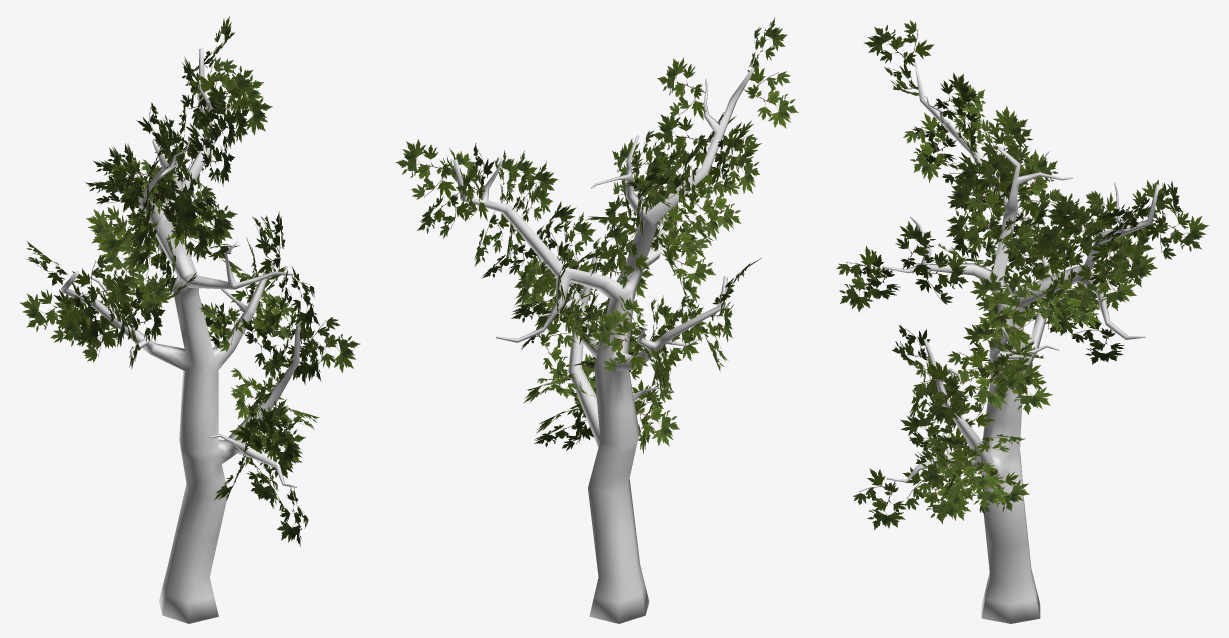
Rendered from Tree_1 (3).fbx.
3 renders of one model, left to right at view 1: azimuth 30°, elevation 25°; view 2: azimuth 150°, elevation 25°; view 3: azimuth 270°, elevation 25°, orthographic. The views are drawn at different scales.
Parts seen in each view (by area): view 1: Stronk, Stronk|Blad|Dupli|75, Stronk|Blad|Dupli|28, Stronk|Blad|Dupli|74, Stronk|Blad|Dupli|35, Stronk|Blad|Dupli|98, Stronk|Blad|Dupli|86, Stronk|Blad|Dupli|50, Stronk|Blad|Dupli|52, Stronk|Blad|Dupli|18, Stronk|Blad|Dupli|4, Stronk|Blad|Dupli|37 (+32 smaller); view 2: Stronk, Stronk|Blad|Dupli|7, Stronk|Blad|Dupli|53, Stronk|Blad|Dupli|92, Stronk|Blad|Dupli|31, Stronk|Blad|Dupli|39, Stronk|Blad|Dupli|25, Stronk|Blad|Dupli|1, Stronk|Blad|Dupli|58, Stronk|Blad|Dupli|27, Stronk|Blad|Dupli|85, Stronk|Blad|Dupli|54 (+20 smaller); view 3: Stronk, Stronk|Blad|Dupli|14, Stronk|Blad|Dupli|56, Stronk|Blad|Dupli|38, Stronk|Blad|Dupli|2, Stronk|Blad|Dupli|85, Stronk|Blad|Dupli|3, Stronk|Blad|Dupli|21, Stronk|Blad|Dupli|23, Stronk|Blad|Dupli|29, Stronk|Blad|Dupli|33, Stronk|Blad|Dupli|70 (+44 smaller).
Boxes of the visible parts, x1,y1,x2,y2 form: Stronk: [61, 48, 305, 623]; Stronk|Blad|Dupli|75: [20, 289, 83, 342]; Stronk|Blad|Dupli|28: [299, 317, 360, 372]; Stronk|Blad|Dupli|74: [72, 254, 134, 310]; Stronk|Blad|Dupli|35: [207, 77, 272, 135]; Stronk|Blad|Dupli|98: [86, 205, 154, 254]; Stronk|Blad|Dupli|86: [189, 57, 253, 107]; Stronk|Blad|Dupli|50: [105, 265, 169, 312]; Stronk|Blad|Dupli|52: [115, 286, 165, 341]; Stronk|Blad|Dupli|18: [239, 317, 288, 380]; Stronk|Blad|Dupli|4: [188, 130, 235, 186]; Stronk|Blad|Dupli|37: [195, 91, 249, 145]; Stronk: [453, 68, 754, 623]; Stronk|Blad|Dupli|7: [395, 139, 456, 199]; Stronk|Blad|Dupli|53: [589, 311, 647, 373]; Stronk|Blad|Dupli|92: [743, 65, 798, 128]; Stronk|Blad|Dupli|31: [657, 57, 706, 120]; Stronk|Blad|Dupli|39: [632, 379, 679, 446]; Stronk|Blad|Dupli|25: [654, 114, 712, 169]; Stronk|Blad|Dupli|1: [695, 165, 740, 231]; Stronk|Blad|Dupli|58: [539, 314, 575, 386]; Stronk|Blad|Dupli|27: [709, 138, 761, 191]; Stronk|Blad|Dupli|85: [417, 193, 473, 238]; Stronk|Blad|Dupli|54: [661, 226, 716, 285]; Stronk: [882, 62, 1159, 623]; Stronk|Blad|Dupli|14: [970, 270, 1030, 327]; Stronk|Blad|Dupli|56: [836, 246, 884, 311]; Stronk|Blad|Dupli|38: [1090, 239, 1157, 287]; Stronk|Blad|Dupli|2: [864, 20, 934, 66]; Stronk|Blad|Dupli|85: [1144, 210, 1208, 259]; Stronk|Blad|Dupli|3: [1076, 260, 1136, 310]; Stronk|Blad|Dupli|21: [853, 468, 906, 530]; Stronk|Blad|Dupli|23: [903, 112, 947, 182]; Stronk|Blad|Dupli|29: [913, 361, 964, 425]; Stronk|Blad|Dupli|33: [956, 141, 1021, 191]; Stronk|Blad|Dupli|70: [1017, 149, 1062, 218].
Size of the model in its own units: 399 by 749 by 470.
2 materials, 1 textured.
